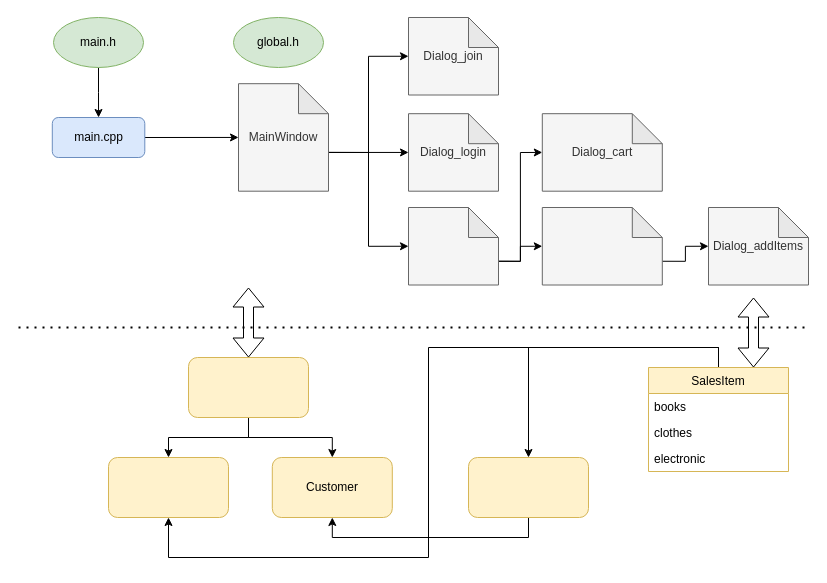
Some shapes in this 827 by 583 pixel diagram are drawn without their labels. Here are the shapes that lost their labels. From the top down, the centre of each, then its label:
the point at 453,245: UserInfoDialog
the point at 601,245: Dialog_itemManage
the point at 248,387: User
the point at 168,487: Seller
the point at 528,487: CartItem
